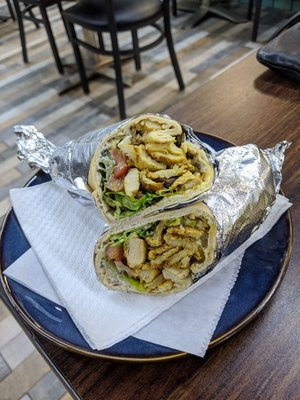curry: (1, 101, 299, 398)
pasta: (58, 0, 185, 120), (2, 0, 66, 75)
